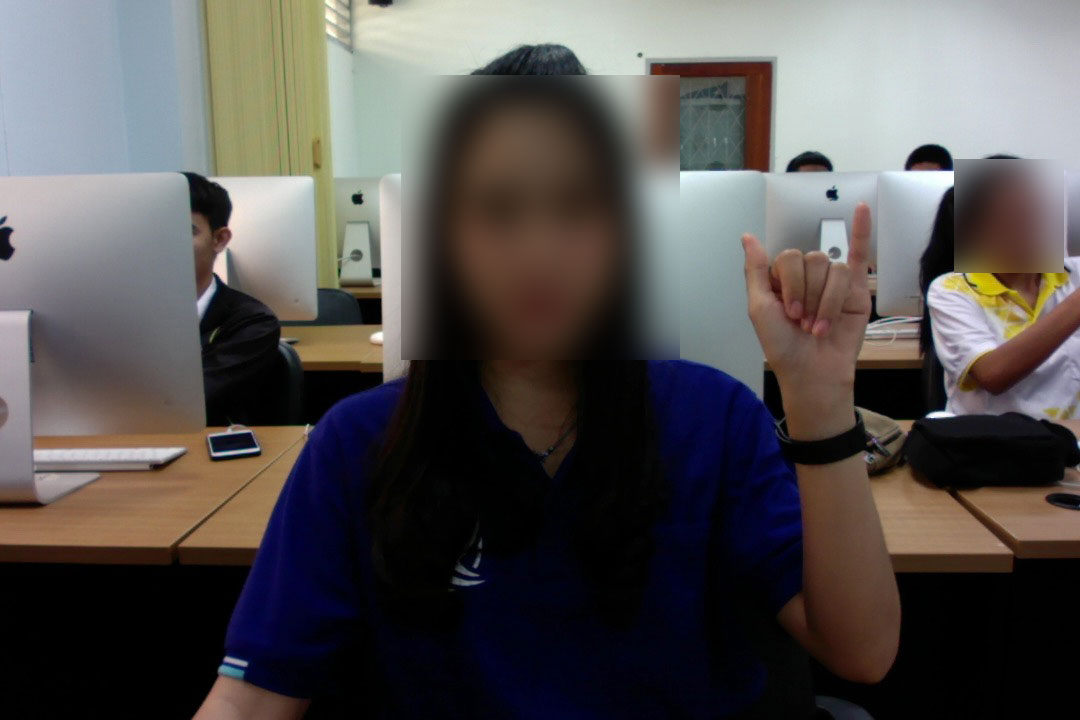yor: (732, 197, 892, 400)
